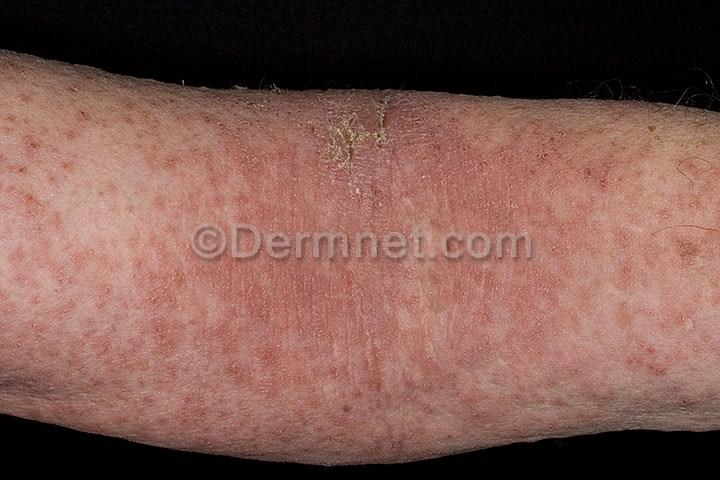Eritema 2: (212, 97, 584, 368)
edema 2: (0, 46, 719, 458)
exudacion 2: (324, 96, 402, 184)
xerosis 1: (218, 86, 373, 117)
